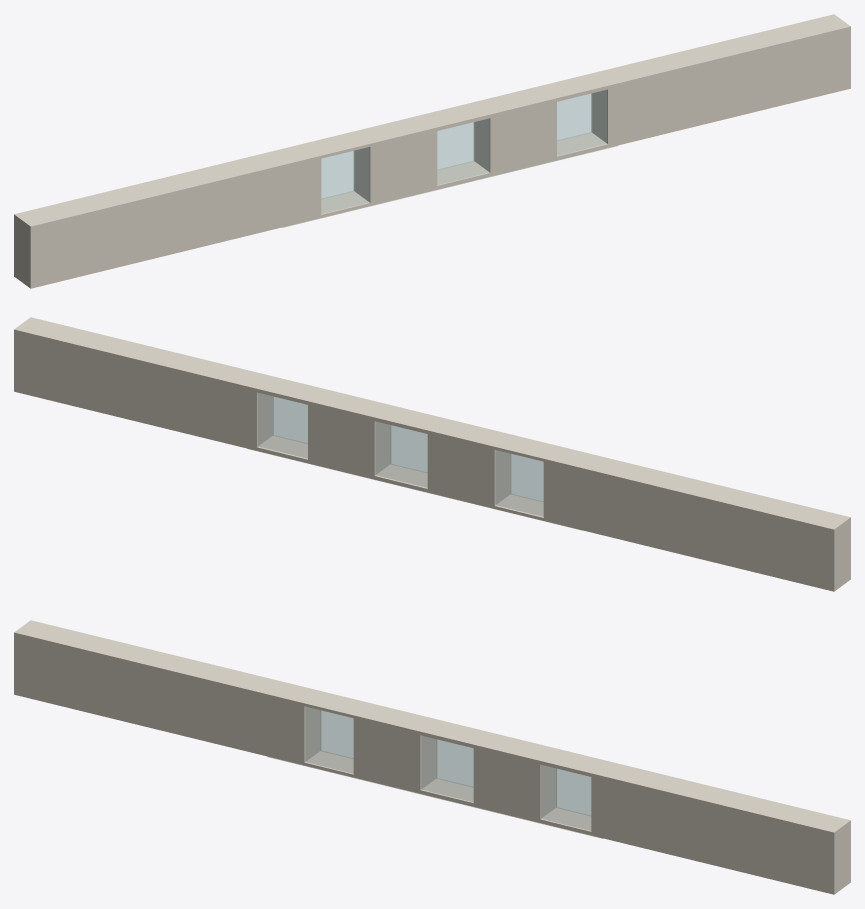
Rendered from wall with windows.fbx.
3 renders of one model, top to bottom at view 1: azimuth 30°, elevation 25°; view 2: azimuth 150°, elevation 25°; view 3: azimuth 330°, elevation 25°, orthographic.
Visible parts, largest first — view 1: pCube249; view 2: pCube249; view 3: pCube249.
Part boxes in pixels (left/top/right/bottom): pCube249: left=14, top=14, right=850, bottom=288; pCube249: left=14, top=317, right=850, bottom=591; pCube249: left=14, top=620, right=850, bottom=894.
Size of the model in its own units: 118 by 8.75 by 4.19.
